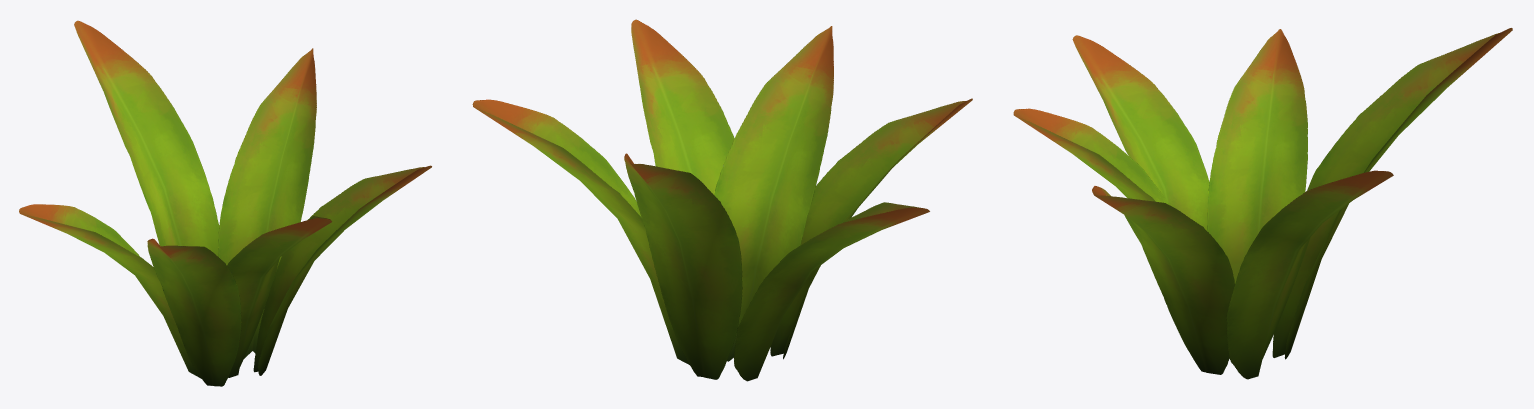
Rendered from Plant_1.glb.
3 renders of one model, left to right at view 1: azimuth 30°, elevation 25°; view 2: azimuth 150°, elevation 25°; view 3: azimuth 270°, elevation 25°, orthographic. The views are drawn at different scales.
Parts seen in each view (by area): view 1: Plant_1; view 2: Plant_1; view 3: Plant_1.
Part boxes in pixels (left/top/right/bottom): Plant_1: left=19, top=20, right=431, bottom=386; Plant_1: left=472, top=19, right=972, bottom=381; Plant_1: left=1013, top=28, right=1512, bottom=379.
Bounding box in the file's own units: 1.27 × 1.01 × 1.39.
Materials: 1 (1 with a texture image).
